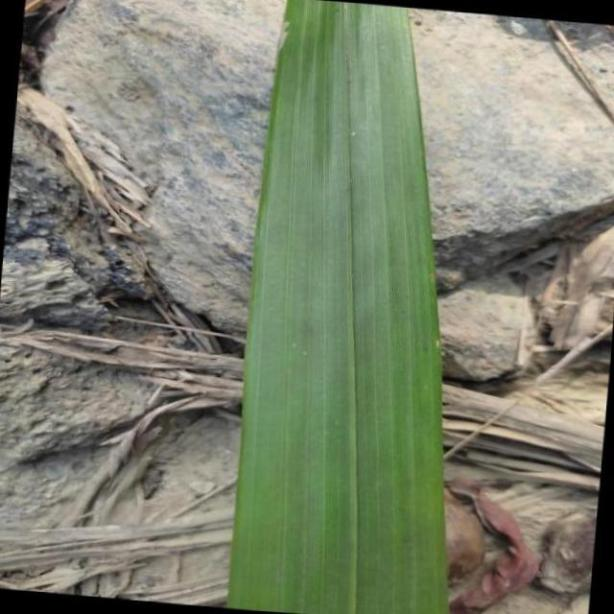Healthy: (232, 0, 449, 614)
